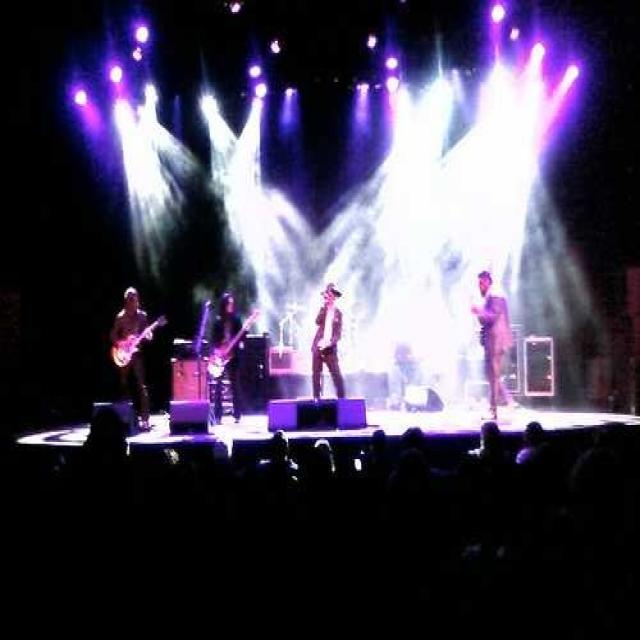microphone: (323, 288, 333, 298)
